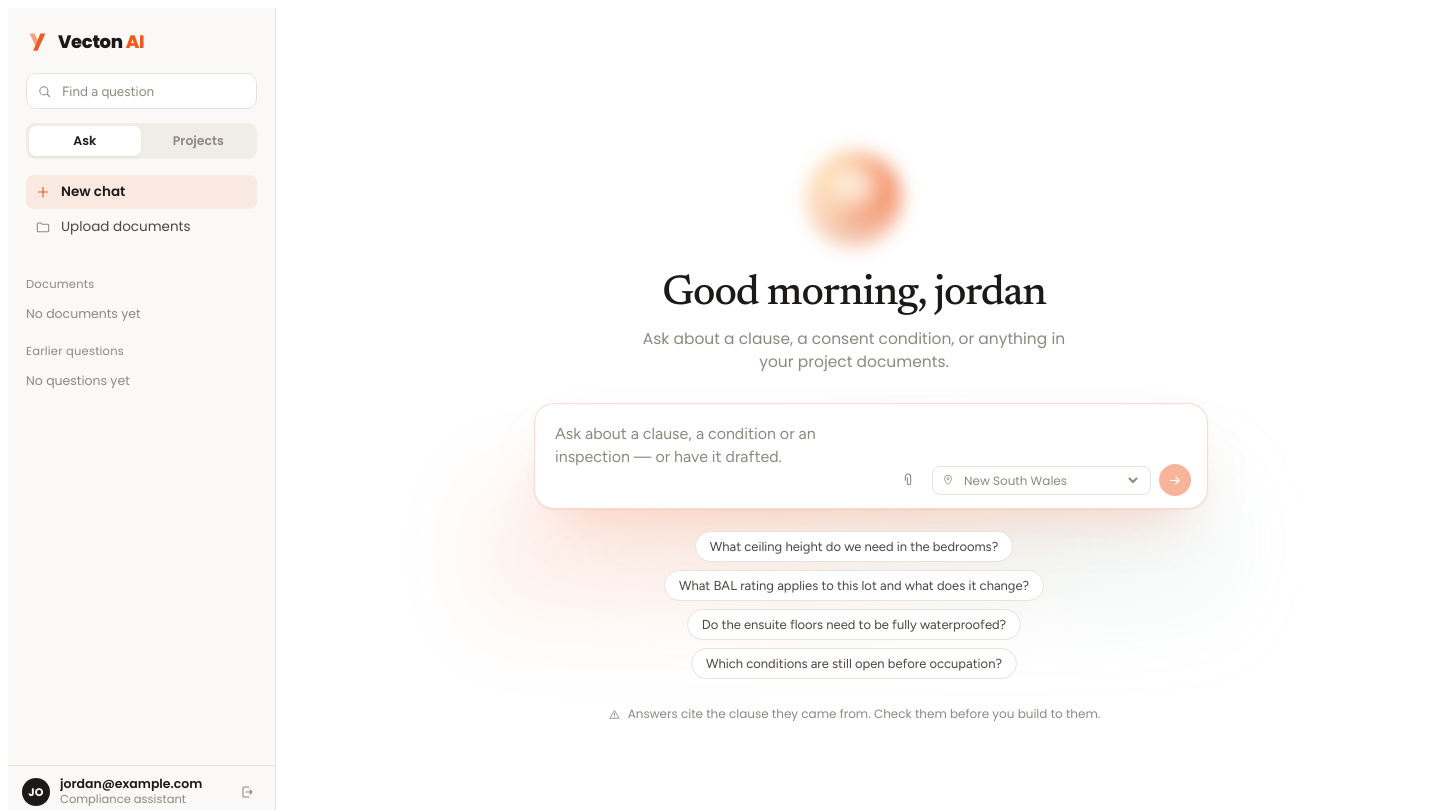
App › navigating to Upload documents shows the upload page
Click the link "Upload documents".
click(113, 226)  # box [35,217,190,236]
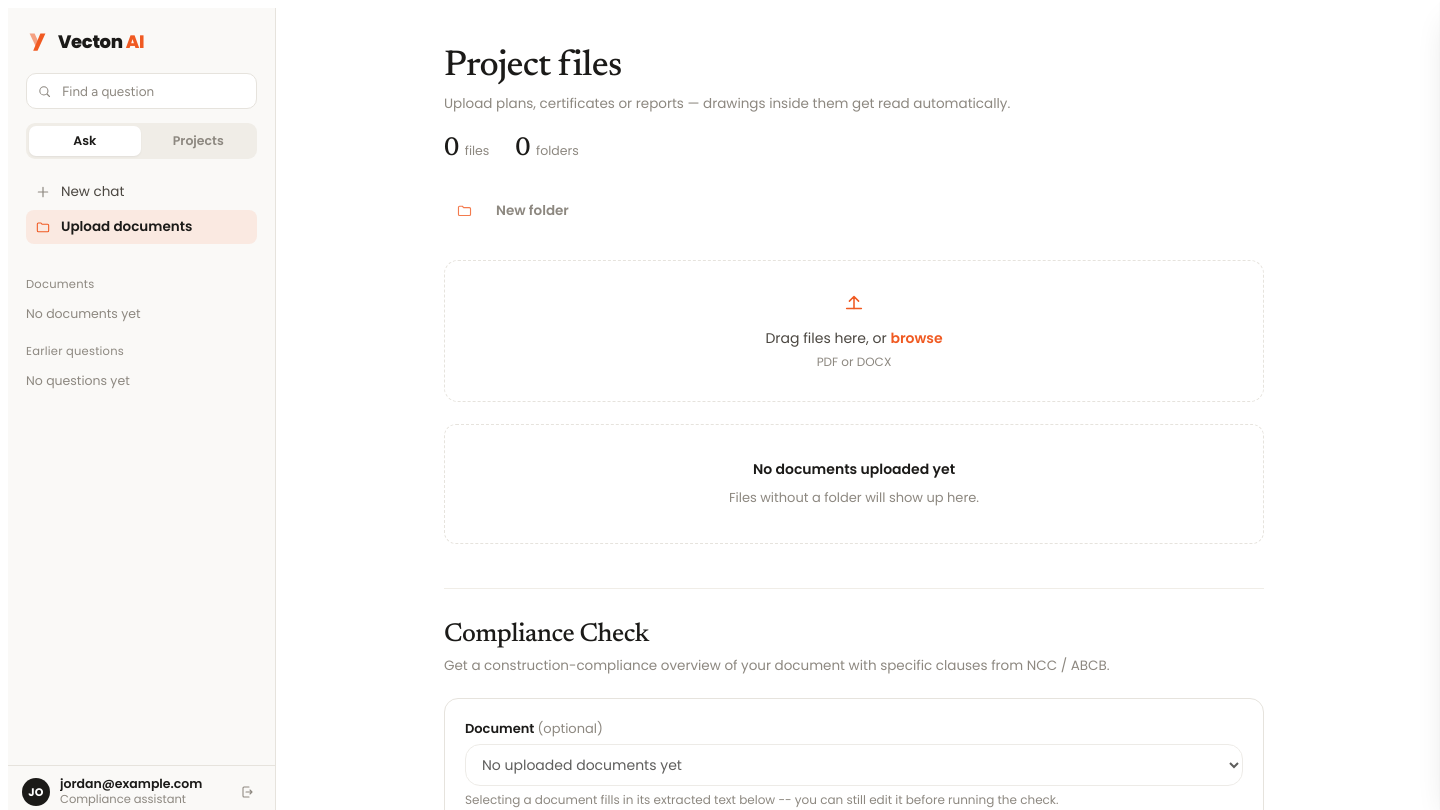
Expected: the heading "Project files" is shown, [444,49,622,85]
